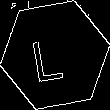L_N: (36, 27, 74, 83)
